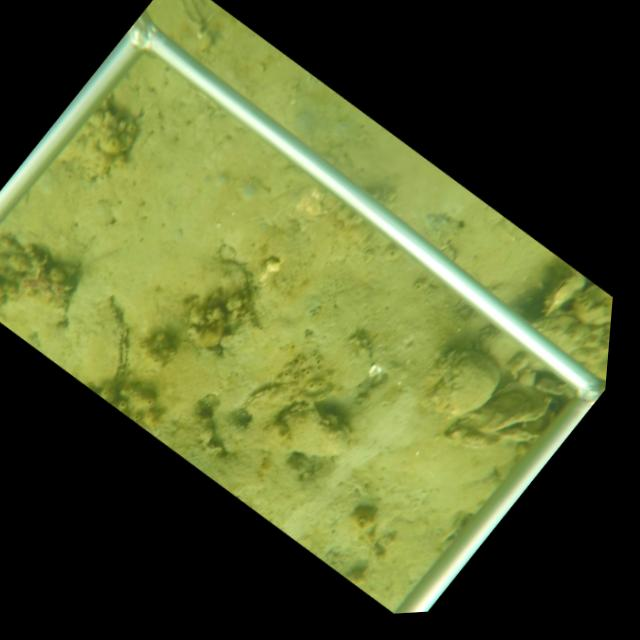Oyster-Closed: (80, 298, 130, 386), (283, 406, 355, 460), (241, 384, 305, 427), (543, 272, 586, 317)
Oyster-Indeterminate: (428, 350, 498, 419)
Oyster-Open: (468, 386, 558, 449)
